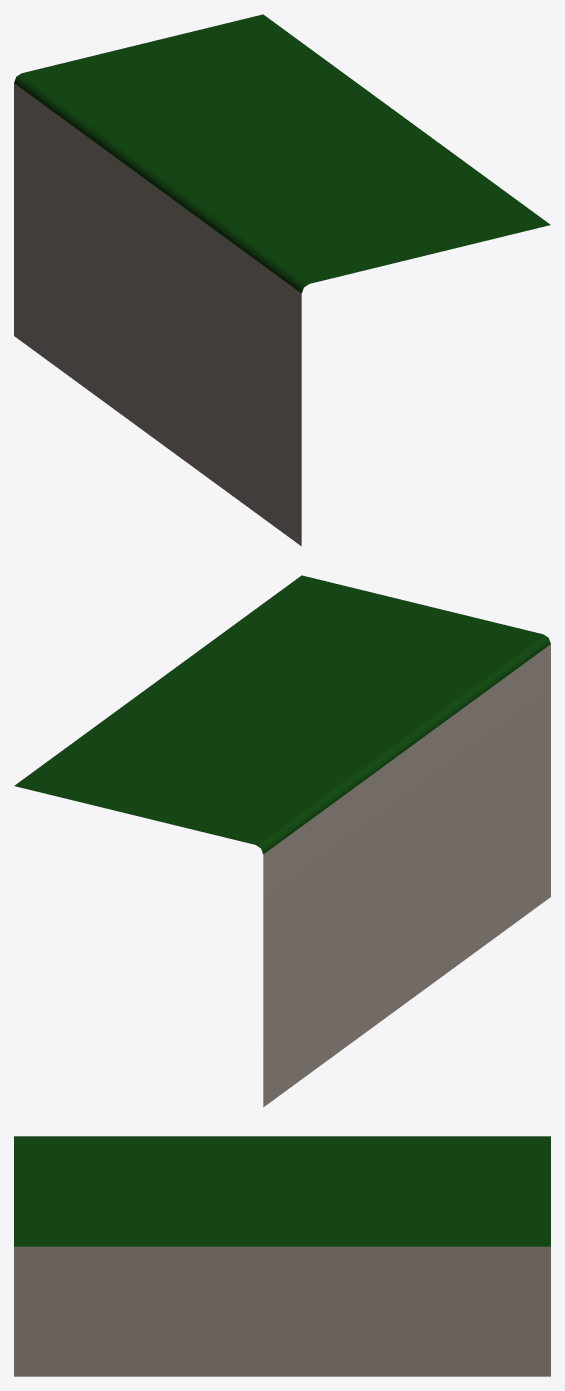
The model's file is Cliff_01_Thin.fbx.
3 views of the same model, one above another, from view 1: azimuth 30°, elevation 25°; view 2: azimuth 150°, elevation 25°; view 3: azimuth 270°, elevation 25° (orthographic). The views are drawn at different scales.
Parts seen in each view (by area): view 1: Cliff_01_Thin; view 2: Cliff_01_Thin; view 3: Cliff_01_Thin.
Part boxes in pixels (bbox=[...]): Cliff_01_Thin: bbox=[14, 14, 550, 546]; Cliff_01_Thin: bbox=[14, 575, 550, 1107]; Cliff_01_Thin: bbox=[14, 1136, 550, 1376].
Size of the model in its own units: 100 by 100 by 200.
